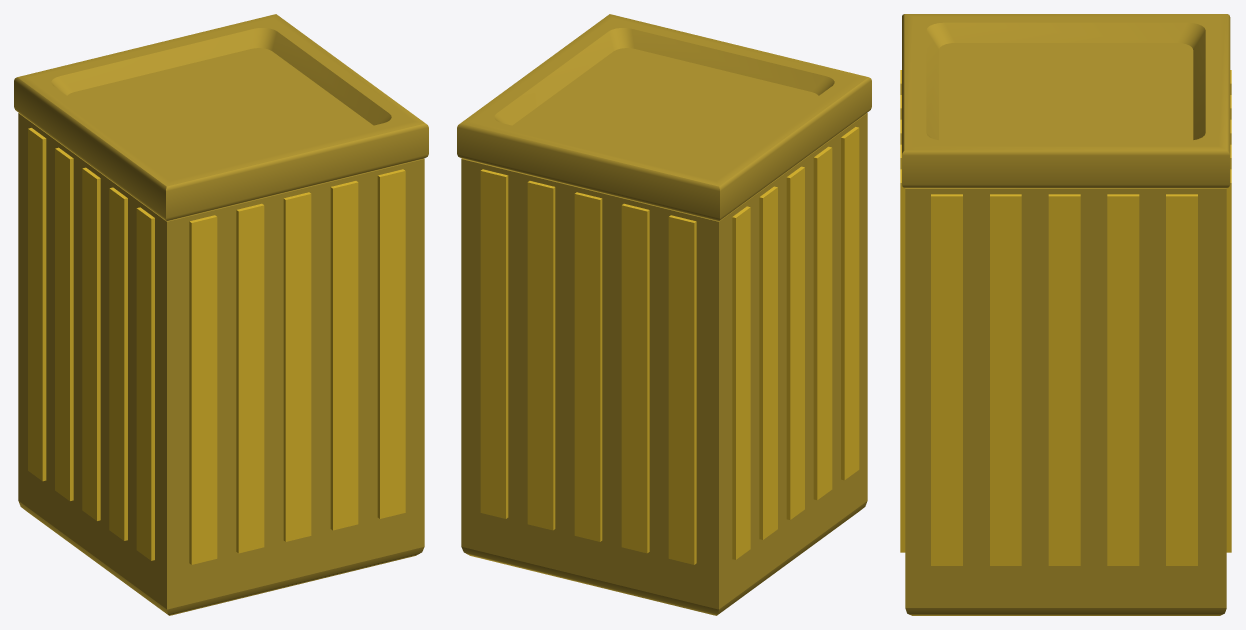
Rendered from Cargo2.fbx.
3 renders of one model, left to right at view 1: azimuth 30°, elevation 25°; view 2: azimuth 150°, elevation 25°; view 3: azimuth 270°, elevation 25°, orthographic. The views are drawn at different scales.
Visible parts, largest first — view 1: Cube; view 2: Cube; view 3: Cube.
Boxes of the visible parts, x1,y1,x2,y2 form: Cube: (14, 14, 428, 615); Cube: (457, 14, 871, 615); Cube: (900, 14, 1231, 615).
Bounding box in the file's own units: 55.83 × 87.62 × 55.83.
